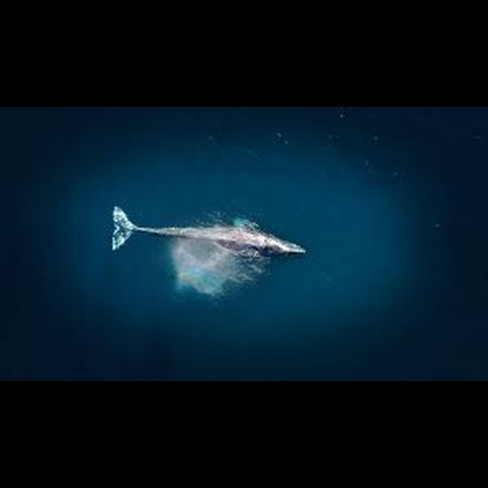bluewhale: (110, 203, 308, 273)
